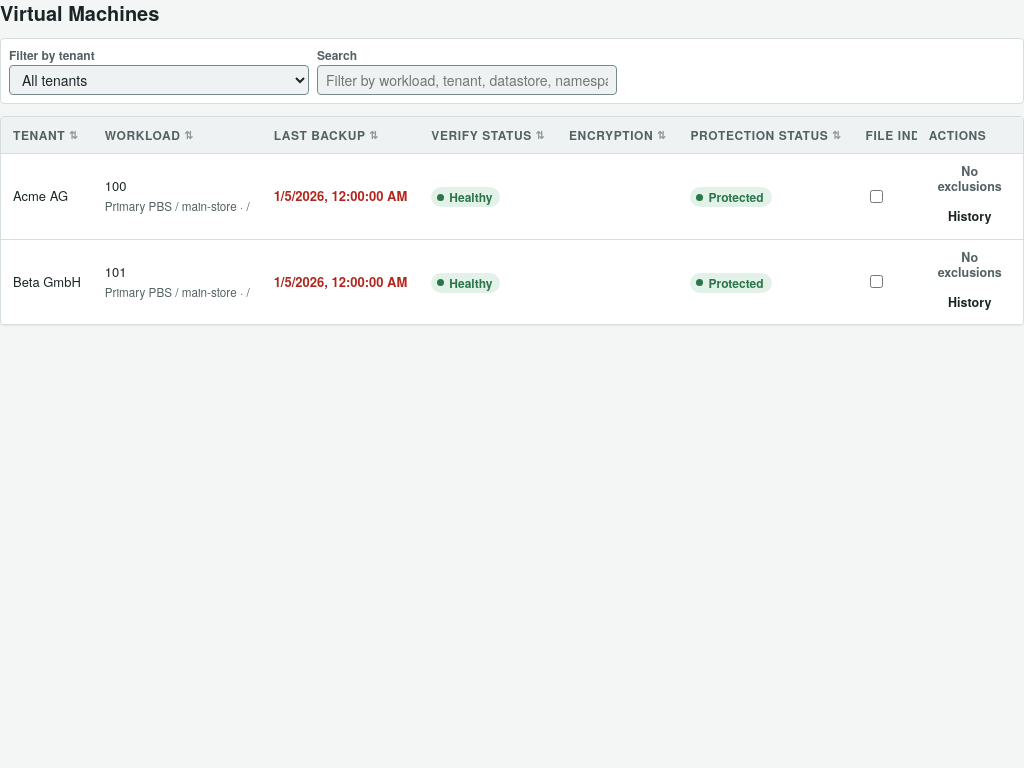
ProtectedWorkloadsPage › opens the restore points modal for the clicked workload
Expected: the text "100" is shown, 105,176 -> 126,195
Step 1. Click the text "100" → point(512, 196), box 1,154 -> 1023,239
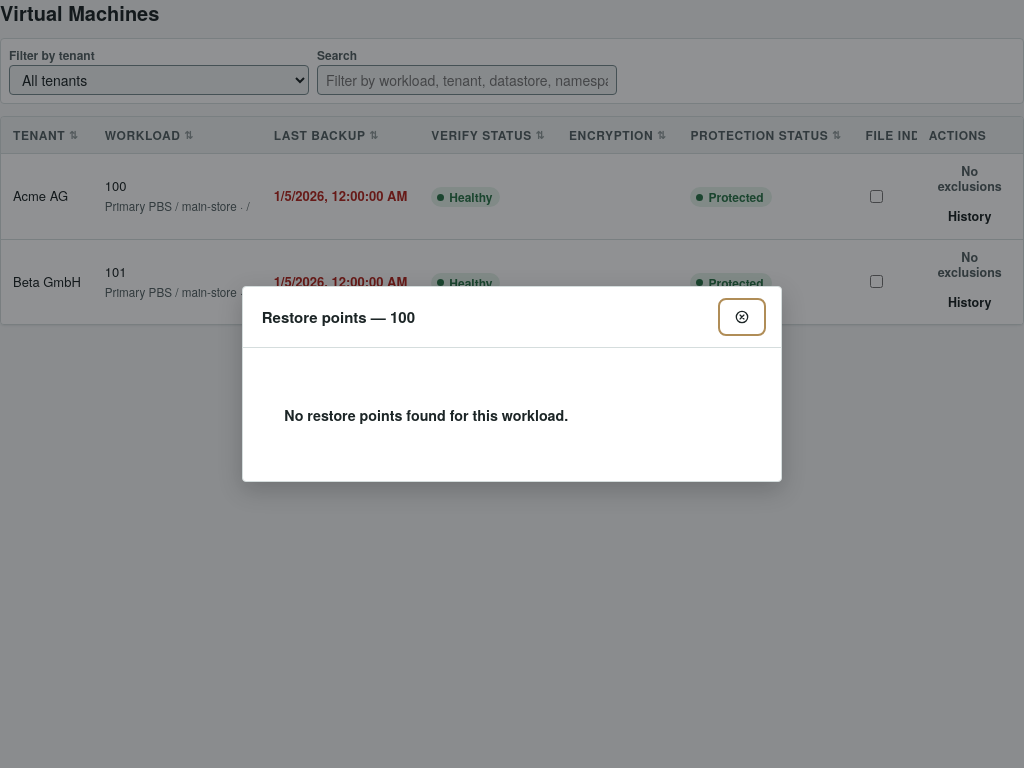
Expected: the heading "Restore points — 100" is shown, 262,307 -> 415,327
